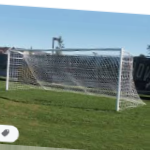goals: (3, 45, 147, 114)
